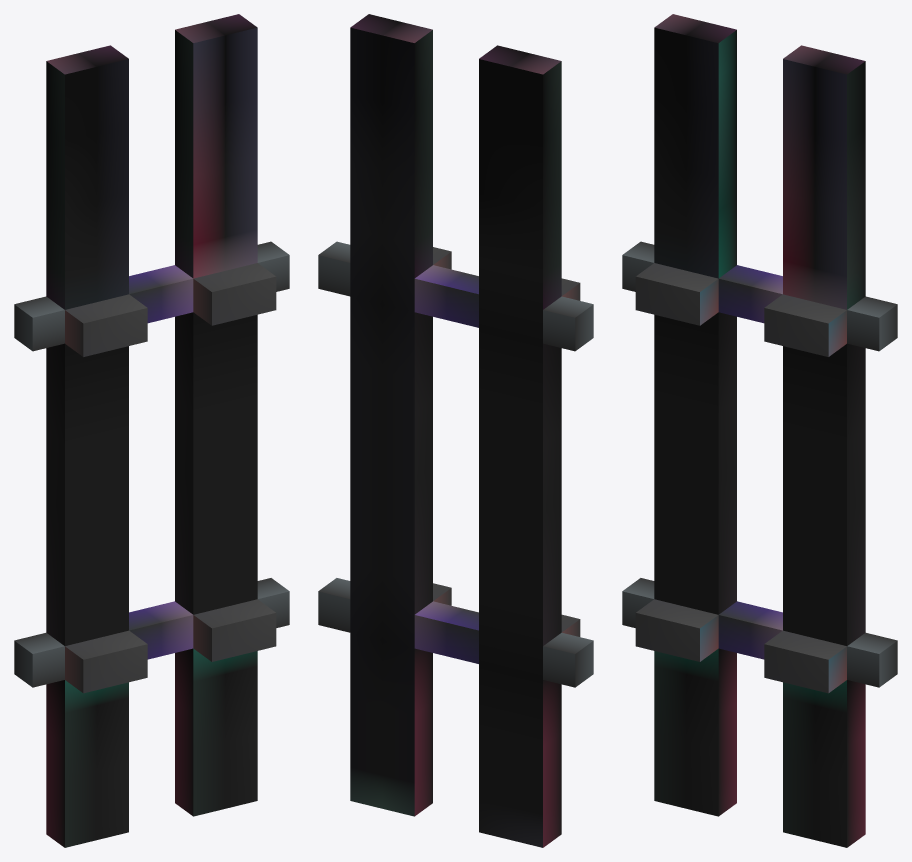
Rendered from Cable_X_00.fbx.
3 renders of one model, left to right at view 1: azimuth 30°, elevation 25°; view 2: azimuth 150°, elevation 25°; view 3: azimuth 330°, elevation 25°, orthographic.
Visible parts, largest first — view 1: Cable_X_00; view 2: Cable_X_00; view 3: Cable_X_00.
Boxes of the visible parts, x1,y1,x2,y2 form: Cable_X_00: [14, 14, 289, 847]; Cable_X_00: [318, 14, 593, 847]; Cable_X_00: [622, 14, 897, 847].
Bounding box in the file's own units: 40 × 115 × 10.
